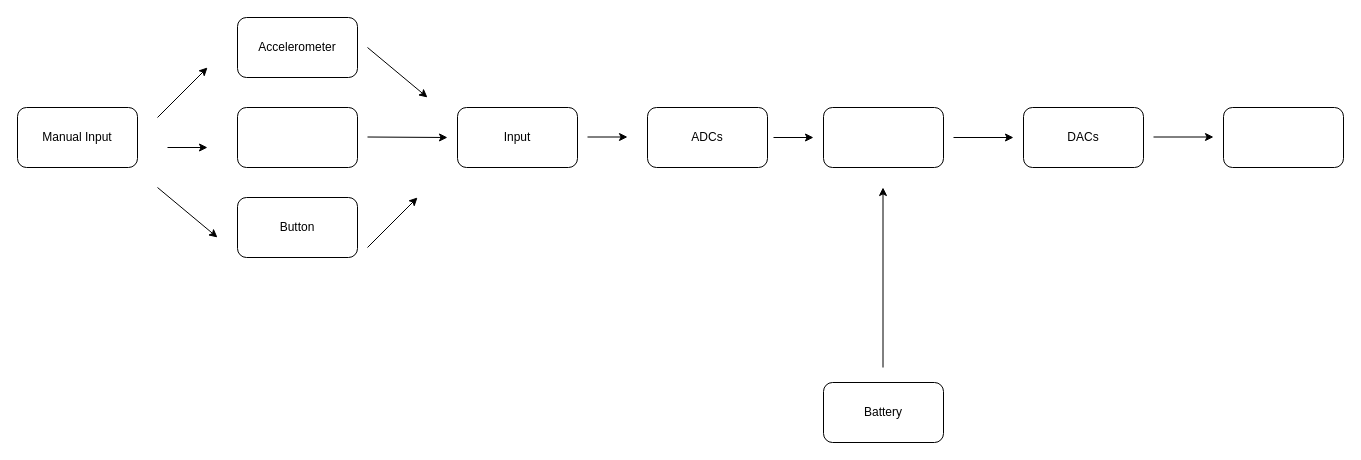
The diagram is 1361 pixels wide and 460 high, and some of its shapes have lost their labels. The centre of each missing label's shape, as x and y in pixels:
Microcontroller: point 883,137
OLED screen (Acutator and Output): point 1283,137
Rotary Encoder: point 297,137
